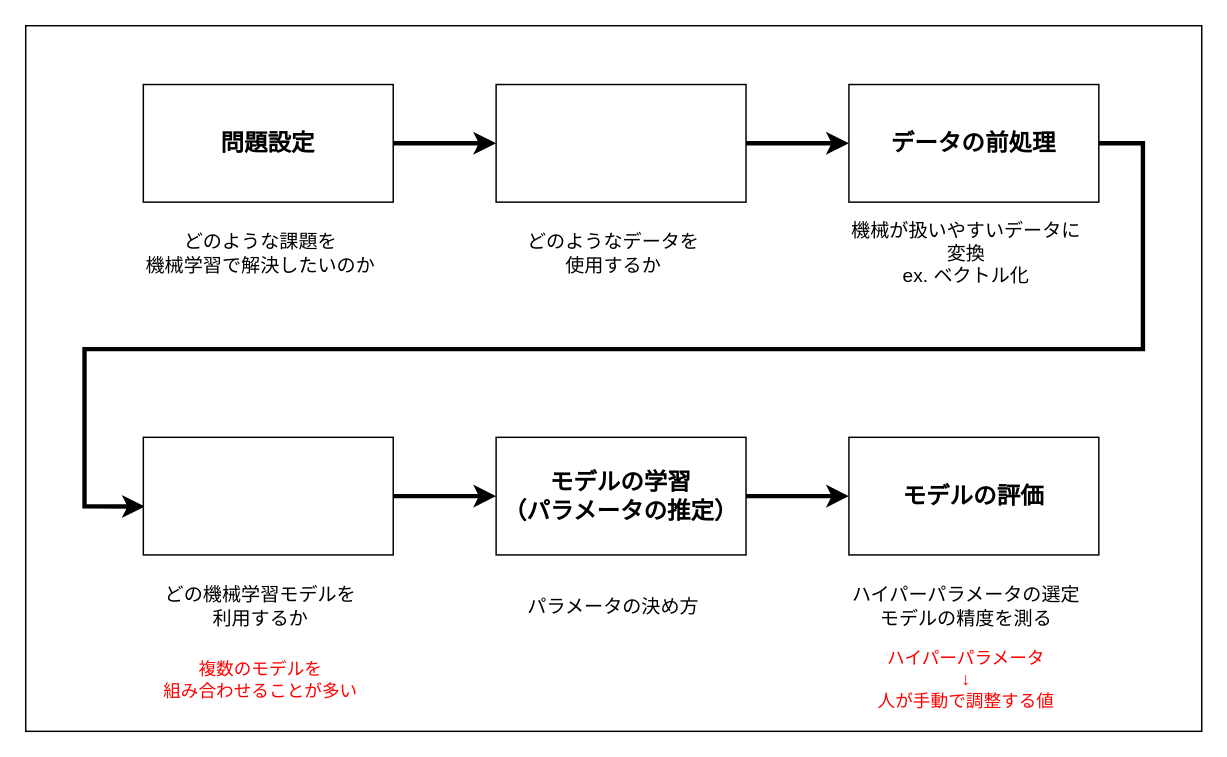
This 1227x757 diagram has some shape labels left out. The shapes that lost their labels are listed below. From the top down, each one's centre as x and y in pixels, then its label:
At point 620,142: "データ選定".
At point 267,495: "機械学習 モデルの選定".
